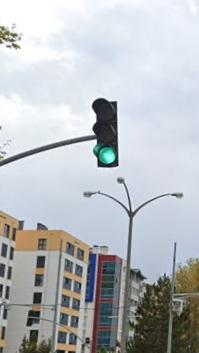greenlight: (91, 98, 122, 168)
